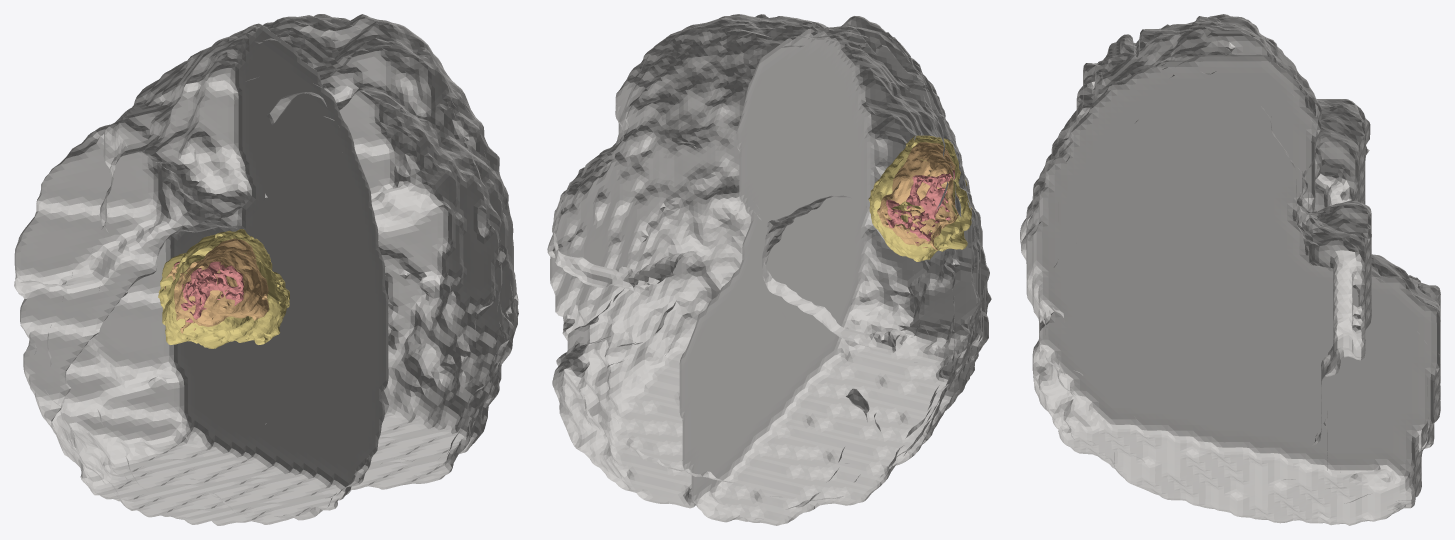
3 views of the same model, side by side, from view 1: azimuth 30°, elevation 25°; view 2: azimuth 150°, elevation 25°; view 3: azimuth 270°, elevation 25° (orthographic). The views are drawn at different scales.
Visible parts, largest first — view 1: brain_left, brain_right, edema, core, enhancing; view 2: brain_left, brain_right, edema, core, enhancing; view 3: brain_right, brain_left.
Part boxes in pixels (left/top/right/bottom): brain_left: left=14, top=23, right=388, bottom=525; brain_right: left=263, top=14, right=518, bottom=490; edema: left=158, top=229, right=289, bottom=348; core: left=164, top=238, right=268, bottom=333; enhancing: left=174, top=261, right=243, bottom=322; brain_left: left=679, top=16, right=991, bottom=525; brain_right: left=547, top=14, right=851, bottom=508; edema: left=868, top=135, right=971, bottom=261; core: left=877, top=142, right=959, bottom=250; enhancing: left=882, top=170, right=954, bottom=243; brain_right: left=1021, top=53, right=1440, bottom=525; brain_left: left=1020, top=14, right=1440, bottom=335.
Bounding box in the file's own units: 144 × 154 × 134.
